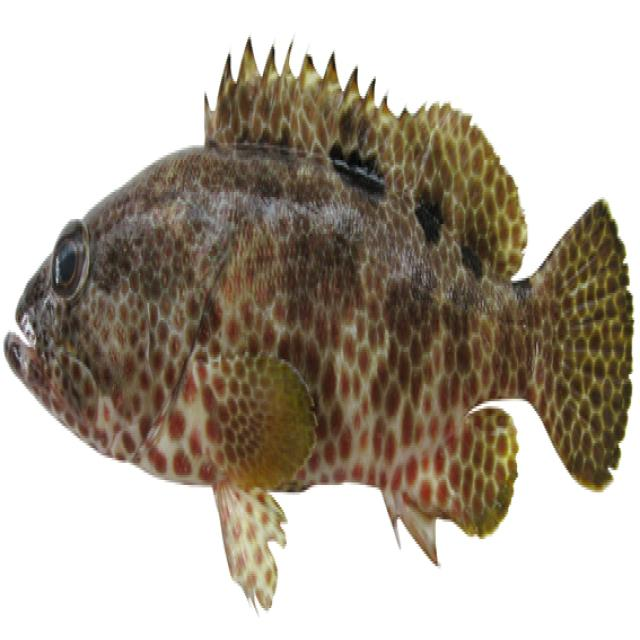ikan: (4, 34, 634, 616)
